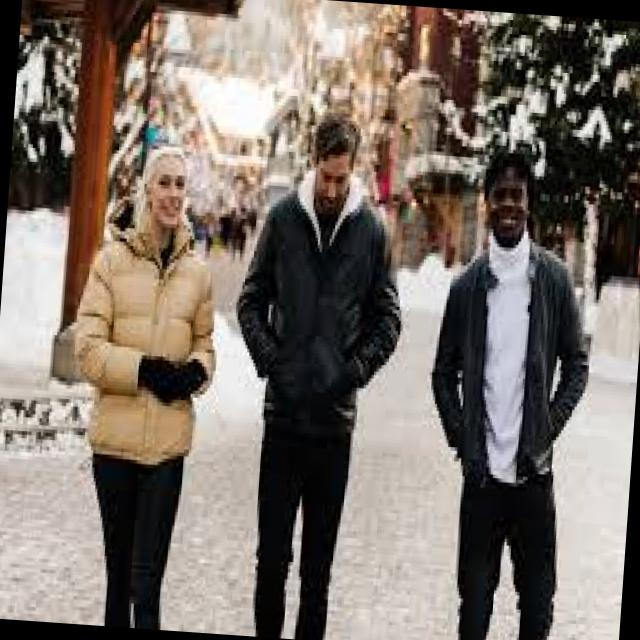Jacket: (224, 180, 414, 453), (60, 219, 228, 502), (423, 230, 601, 484)
